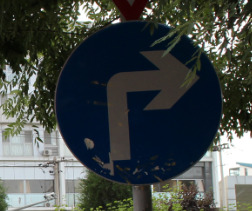right_turn: (55, 21, 222, 186)
